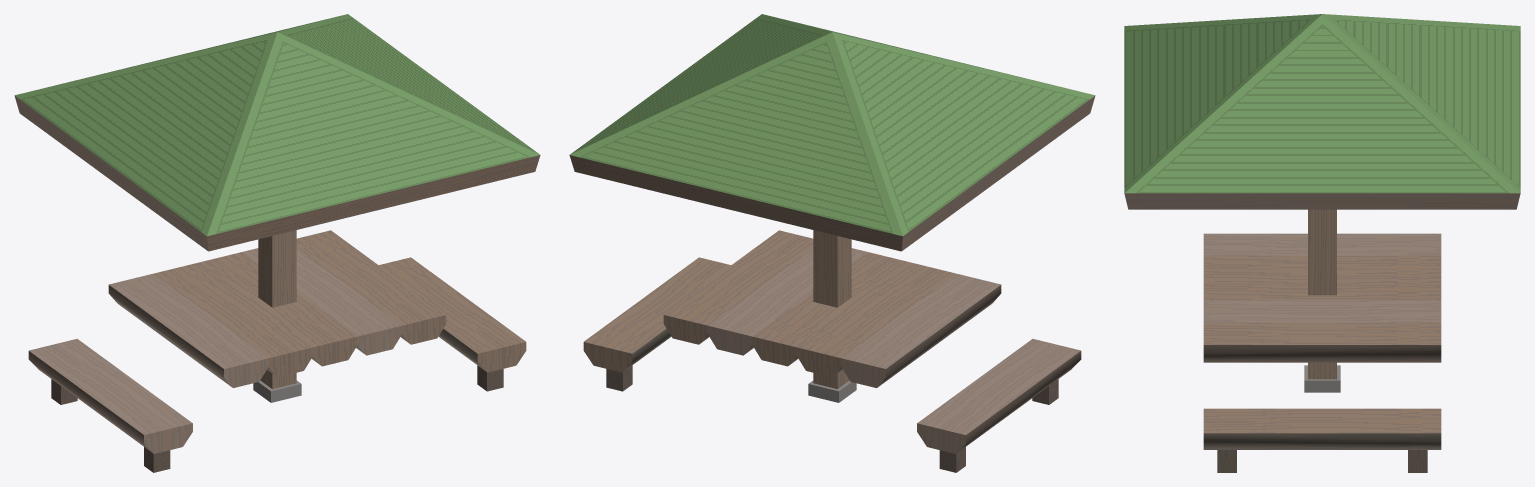
File: 00d2_Picnic_Table.glb
3 views of the same model, side by side, from view 1: azimuth 30°, elevation 25°; view 2: azimuth 150°, elevation 25°; view 3: azimuth 270°, elevation 25° (orthographic). The views are drawn at different scales.
Visible parts, largest first — view 1: part_0; view 2: part_0; view 3: part_0.
Boxes of the visible parts, x1,y1,x2,y2 form: part_0: [14, 14, 540, 472]; part_0: [569, 14, 1095, 472]; part_0: [1124, 14, 1520, 472].
Size of the model in its own units: 3.44 by 3.1 by 3.
Materials: 1 (1 with a texture image).
